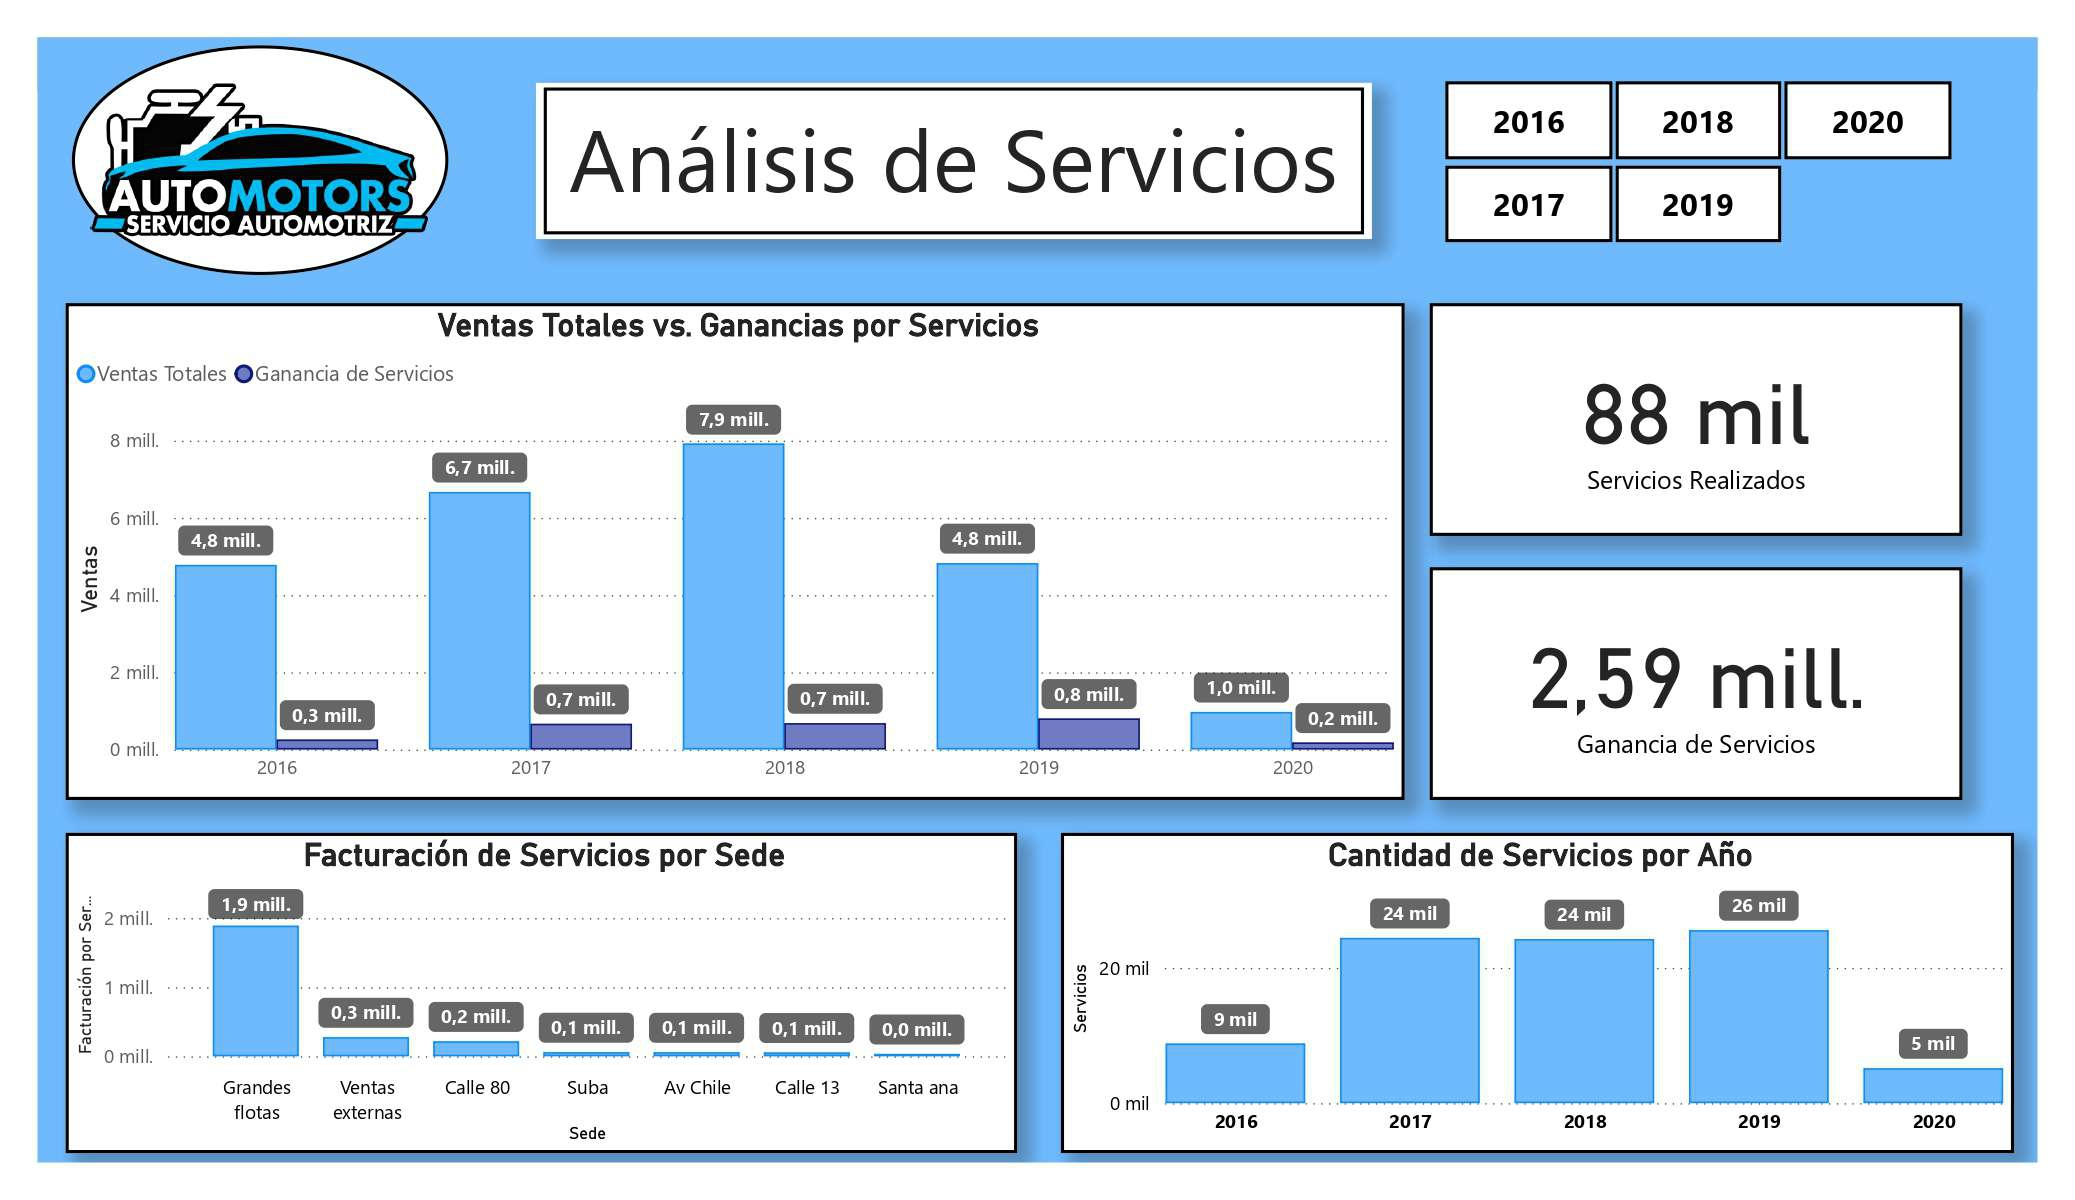

The page's visual inventory and layout, read from the dashboard file:
{"tool":"powerbi","page":{"name":"Servicios","canvas":[1280,720],"ordinal":2},"visuals":[{"type":"card","fields":{"Values":["Ventas2.GananciaServicios"]},"box":[891.2,339.1,340.4,149.2],"z":0},{"type":"clusteredColumnChart","title":"Cantidad de Servicios por Año","fields":{"Category":["Ventas2.Año"],"Y":["Ventas2.CantidadServicios"]},"box":[655.3,508.7,609.4,205.3],"z":1000},{"type":"slicer","fields":{"Values":["Ventas2.Año"]},"box":[874.8,20.7,373.8,117.7],"z":2000},{"type":"card","fields":{"Values":["Ventas2.CantidadServicios"]},"box":[891.2,169.6,340.4,149.2],"z":3000},{"type":"clusteredColumnChart","title":"Facturación de Servicios por Sede","fields":{"Category":["Ventas2.Sede"],"Y":["Ventas2.GananciaServicios"]},"box":[17.8,508.7,609.4,205.3],"z":4000},{"type":"clusteredColumnChart","title":"Ventas Totales vs. Ganancias por Servicios","fields":{"Category":["Ventas2.Año"],"Y":["Ventas2.VentasTotales","Ventas2.GananciaServicios"]},"box":[17.8,169.6,856.7,318.7],"z":5000},{"type":"shape","box":[21.7,5.1,241,146.6],"z":6000},{"type":"image","box":[18.4,19.9,248,117.9],"z":7000},{"type":"shape","box":[319,29.1,535.3,99.8],"z":8001},{"type":"textbox","box":[324.5,31.8,524.9,93.8],"z":8002}]}

Visuals, with their boxes on the page's 1280x720 design canvas (x1, y1, x2, y2). These are canvas units, not pixel positions in the 2075x1200 screenshot, which may show the page scaled, cropped or inside an application window:
card - Ventas2.GananciaServicios: bbox=(891, 339, 1232, 488)
"Cantidad de Servicios por Año" clusteredColumnChart: bbox=(655, 509, 1265, 714)
slicer - Ventas2.Año: bbox=(875, 21, 1249, 138)
card - Ventas2.CantidadServicios: bbox=(891, 170, 1232, 319)
"Facturación de Servicios por Sede" clusteredColumnChart: bbox=(18, 509, 627, 714)
"Ventas Totales vs. Ganancias por Servicios" clusteredColumnChart: bbox=(18, 170, 874, 488)
shape: bbox=(22, 5, 263, 152)
image: bbox=(18, 20, 266, 138)
shape: bbox=(319, 29, 854, 129)
textbox: bbox=(324, 32, 849, 126)
